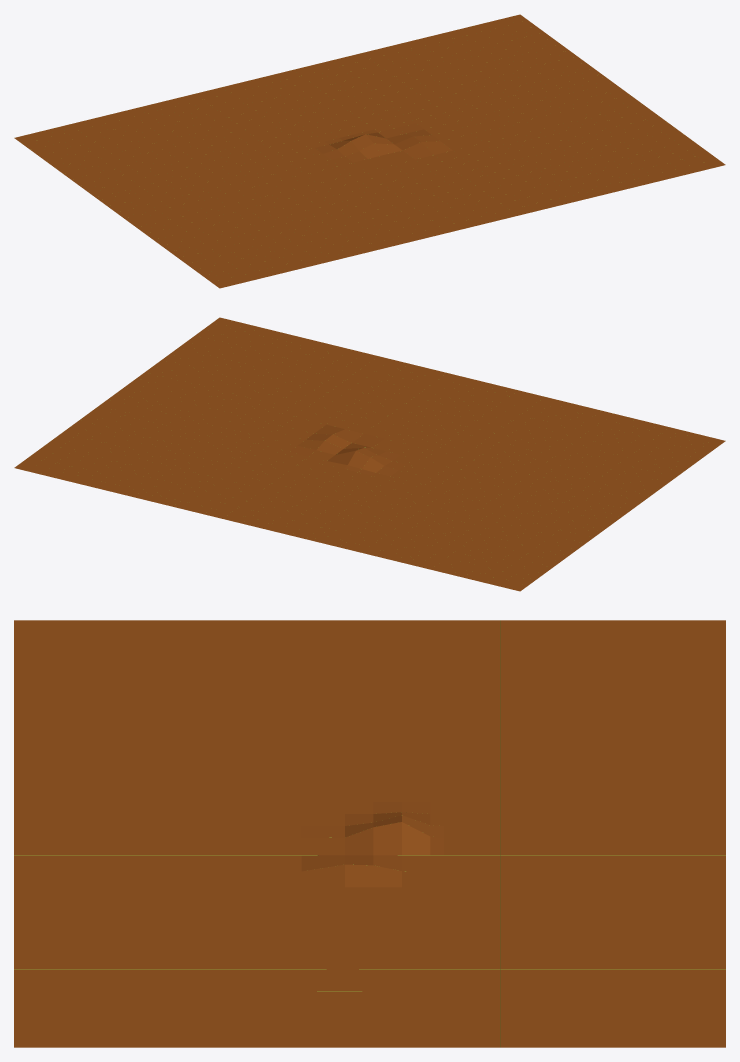
Rendered from desertcar.gltf.
The picture shows the model from 3 angles, top to bottom: view 1: azimuth 30°, elevation 25°; view 2: azimuth 150°, elevation 25°; view 3: azimuth 270°, elevation 25°; orthographic projection. The views are drawn at different scales.
Parts seen in each view (by area): view 1: DESERT; view 2: DESERT; view 3: DESERT, DESERT-WIREFRAME.
Boxes of the visible parts, x1,y1,x2,y2 form: DESERT: (14,14,725,288); DESERT: (14,317,725,591); DESERT: (14,620,725,1047); DESERT-WIREFRAME: (14,620,725,1047).
Size of the model in its own units: 7104 by 126 by 5001.
